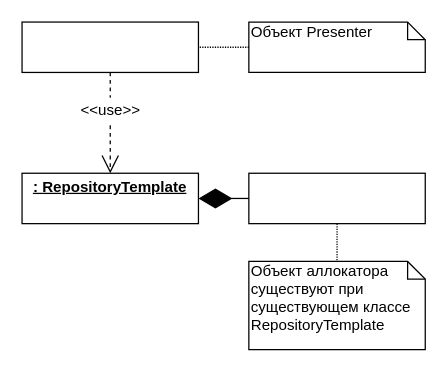
The diagram is 447 pixels wide and 372 high, and some of its shapes have lost their labels. Here are the shapes that lost their labels. From the top down, the box of each, then its label:
(21, 21, 198, 72): : MainWindow
(248, 172, 425, 224): : Allocator
